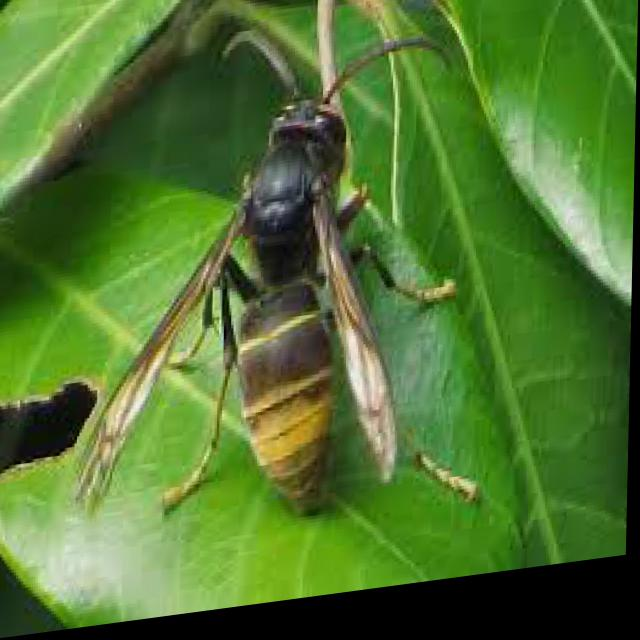Vespa Velutina: (61, 0, 501, 581)
